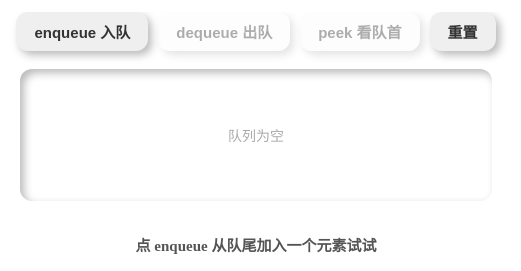
Test: QueueViz › TC-VIZ-QUEUEVIZ-02 enqueue 增元素、值为递增序号
Click the button "enqueue 入队".
click(82, 32)  # box left=16, top=12, right=148, bottom=51
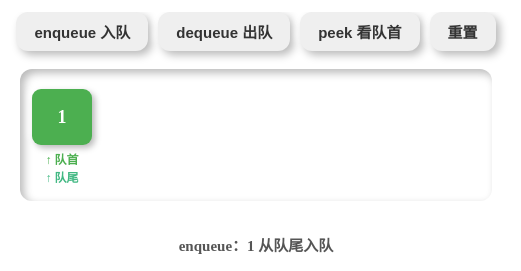
Now the text "1" is shown, box left=32, top=89, right=92, bottom=145
